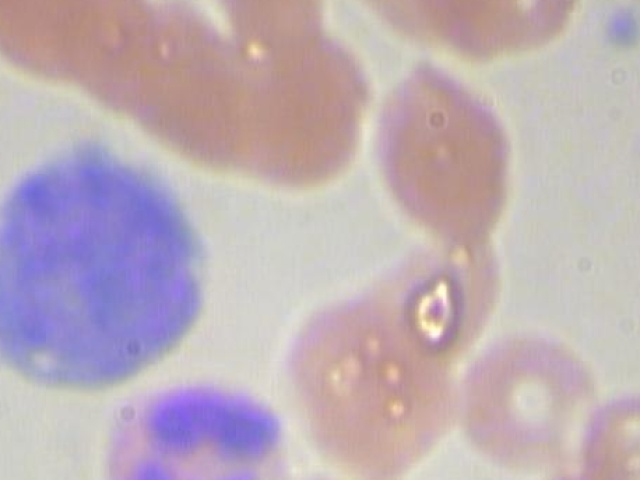Platelets: (601, 0, 640, 60)
RBC: (365, 61, 551, 266), (279, 283, 439, 456), (440, 304, 593, 476), (107, 0, 228, 157), (36, 0, 157, 114), (0, 0, 97, 85), (577, 360, 640, 480), (411, 0, 529, 57), (207, 0, 340, 50), (482, 0, 586, 60), (0, 0, 52, 60), (483, 463, 640, 480), (0, 0, 5, 16)
WBC: (0, 135, 239, 395), (87, 381, 295, 480)
